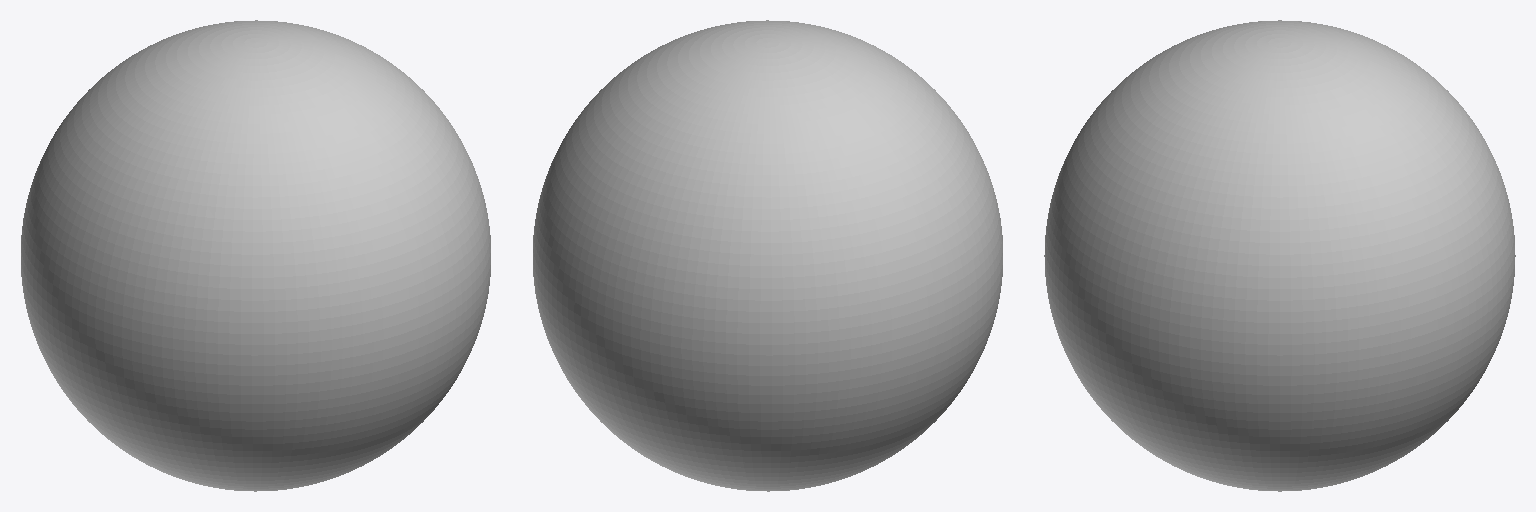
File: venus.obj
3 renders of one model, left to right at view 1: azimuth 30°, elevation 25°; view 2: azimuth 150°, elevation 25°; view 3: azimuth 270°, elevation 25°, orthographic.
Parts seen in each view (by area): view 1: Sphere; view 2: Sphere; view 3: Sphere.
Part boxes in pixels (x1,y1,x2,y2): Sphere: (21,20,490,491); Sphere: (533,20,1002,491); Sphere: (1044,20,1515,491).
Bounding box in the file's own units: 12104 × 12104 × 12104.